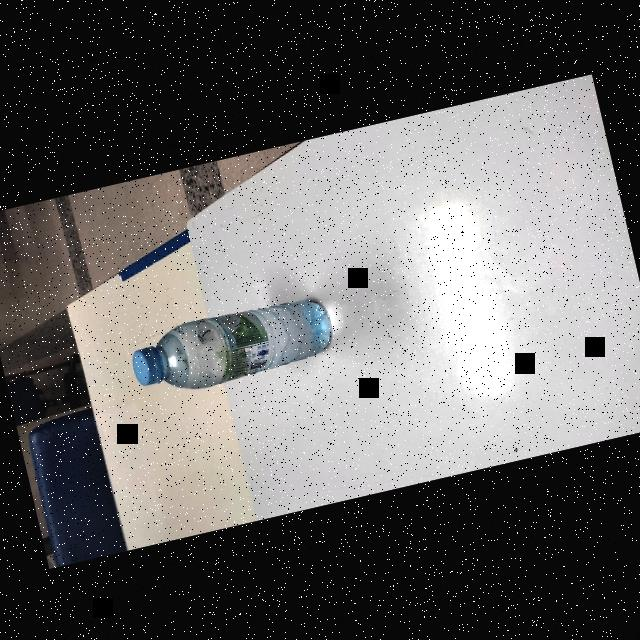plastic_bottle: (122, 287, 340, 403)
